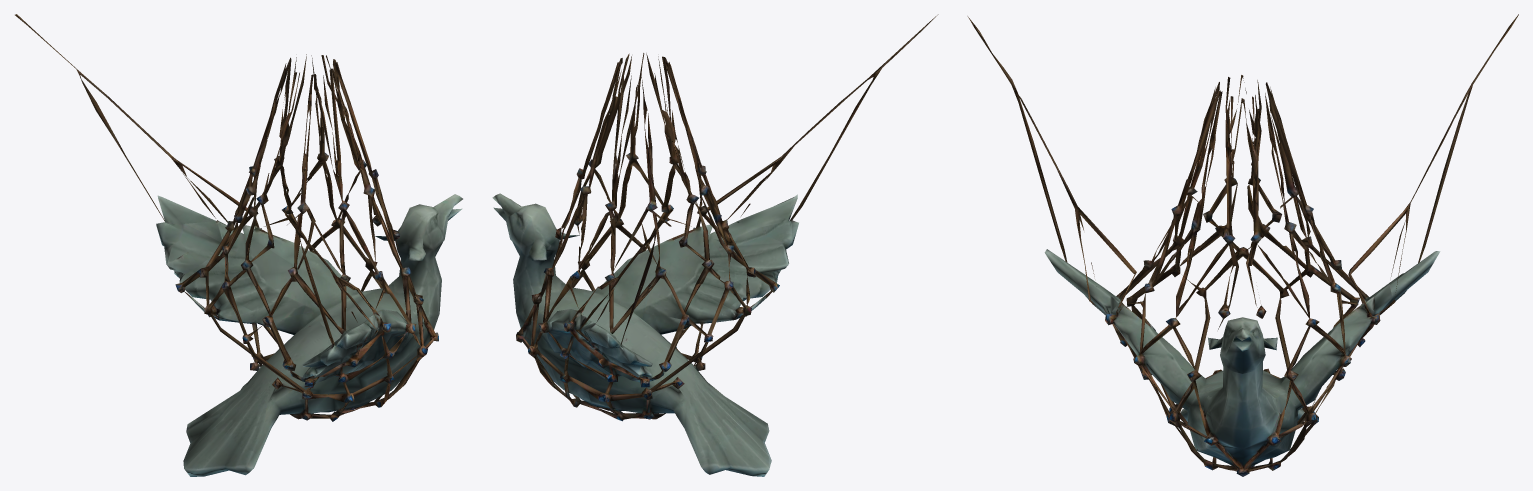
File: ss_tianluo.glb
The picture shows the model from 3 angles, left to right: view 1: azimuth 30°, elevation 25°; view 2: azimuth 150°, elevation 25°; view 3: azimuth 270°, elevation 25°; orthographic projection. The views are drawn at different scales.
Visible parts, largest first — view 1: tripo_node_27f17d25-c8bd-42ea-bb32-1faec7227582; view 2: tripo_node_27f17d25-c8bd-42ea-bb32-1faec7227582; view 3: tripo_node_27f17d25-c8bd-42ea-bb32-1faec7227582.
Part boxes in pixels (box(x1,y1,x2,y2)): tripo_node_27f17d25-c8bd-42ea-bb32-1faec7227582: box(15, 14, 462, 476); tripo_node_27f17d25-c8bd-42ea-bb32-1faec7227582: box(492, 14, 938, 476); tripo_node_27f17d25-c8bd-42ea-bb32-1faec7227582: box(967, 14, 1518, 476).
Bounding box in the file's own units: 0.6759 × 0.7892 × 0.993.
1 material, 1 textured.
